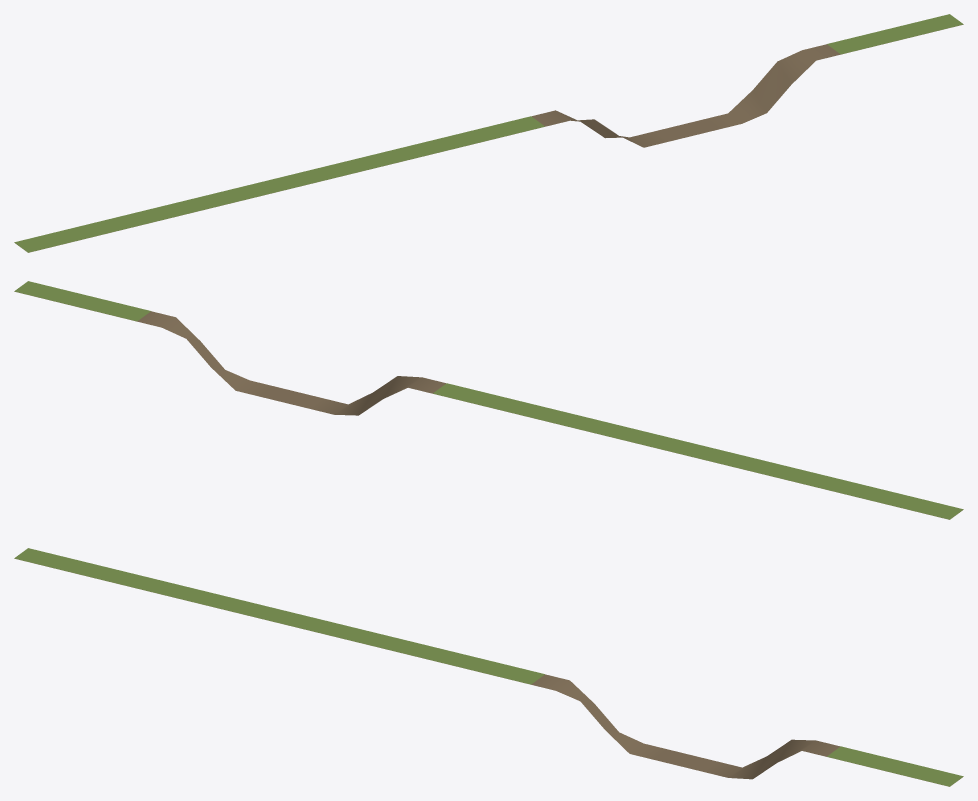
Rendered from region_1_-2.glb.
The picture shows the model from 3 angles, top to bottom: view 1: azimuth 30°, elevation 25°; view 2: azimuth 150°, elevation 25°; view 3: azimuth 330°, elevation 25°; orthographic projection.
Parts seen in each view (by area): view 1: OD_Meadow.014, OD_Ground.014; view 2: OD_Meadow.014, OD_Ground.014; view 3: OD_Meadow.014, OD_Ground.014.
Part boxes in pixels (x1,y1,x2,y2): OD_Meadow.014: (14, 14, 963, 252); OD_Ground.014: (15, 24, 962, 252); OD_Meadow.014: (14, 281, 963, 519); OD_Ground.014: (15, 291, 962, 519); OD_Meadow.014: (14, 548, 963, 786); OD_Ground.014: (15, 558, 962, 786).
Size of the model in its own units: 31.52 by 1.46 by 0.8294.
